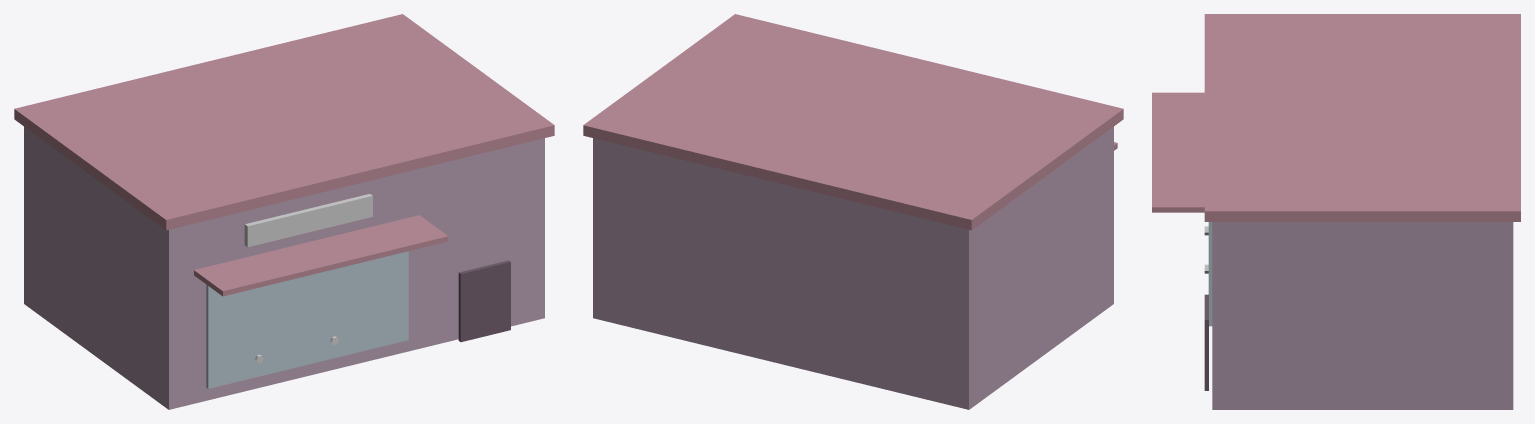
File: building-clothing-store.glb
3 renders of one model, left to right at view 1: azimuth 30°, elevation 25°; view 2: azimuth 150°, elevation 25°; view 3: azimuth 270°, elevation 25°, orthographic. The views are drawn at different scales.
Visible parts, largest first — view 1: building-clothing-store_part_1, building-clothing-store_part_0, building-clothing-store_part_2, building-clothing-store_part_10, building-clothing-store_part_3, building-clothing-store_part_11; view 2: building-clothing-store_part_0, building-clothing-store_part_1; view 3: building-clothing-store_part_1, building-clothing-store_part_0, building-clothing-store_part_10, building-clothing-store_part_2, building-clothing-store_part_3.
Part boxes in pixels (x1,y1,x2,y2): building-clothing-store_part_1: (14, 14, 554, 230); building-clothing-store_part_0: (24, 126, 544, 409); building-clothing-store_part_2: (206, 251, 408, 388); building-clothing-store_part_10: (194, 215, 448, 296); building-clothing-store_part_3: (458, 260, 510, 342); building-clothing-store_part_11: (244, 194, 372, 247); building-clothing-store_part_0: (593, 126, 1113, 409); building-clothing-store_part_1: (583, 14, 1123, 230); building-clothing-store_part_1: (1204, 14, 1520, 221); building-clothing-store_part_0: (1212, 222, 1513, 409); building-clothing-store_part_10: (1152, 92, 1204, 212); building-clothing-store_part_2: (1208, 222, 1212, 326); building-clothing-store_part_3: (1204, 294, 1208, 390).
Size of the model in its own units: 15.5 by 7.4 by 12.25.
